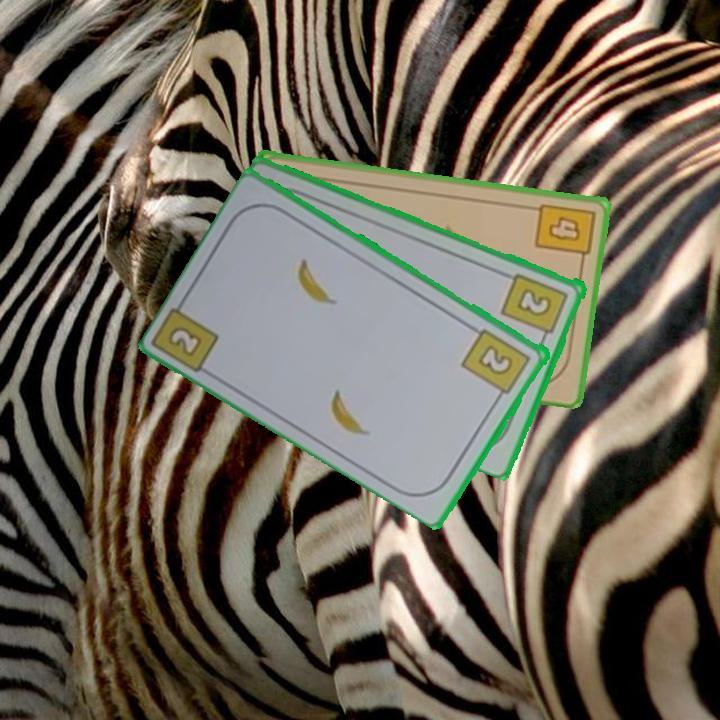2b: (458, 325, 534, 404), (498, 269, 572, 345), (168, 325, 202, 357)
4b: (531, 200, 598, 268)
